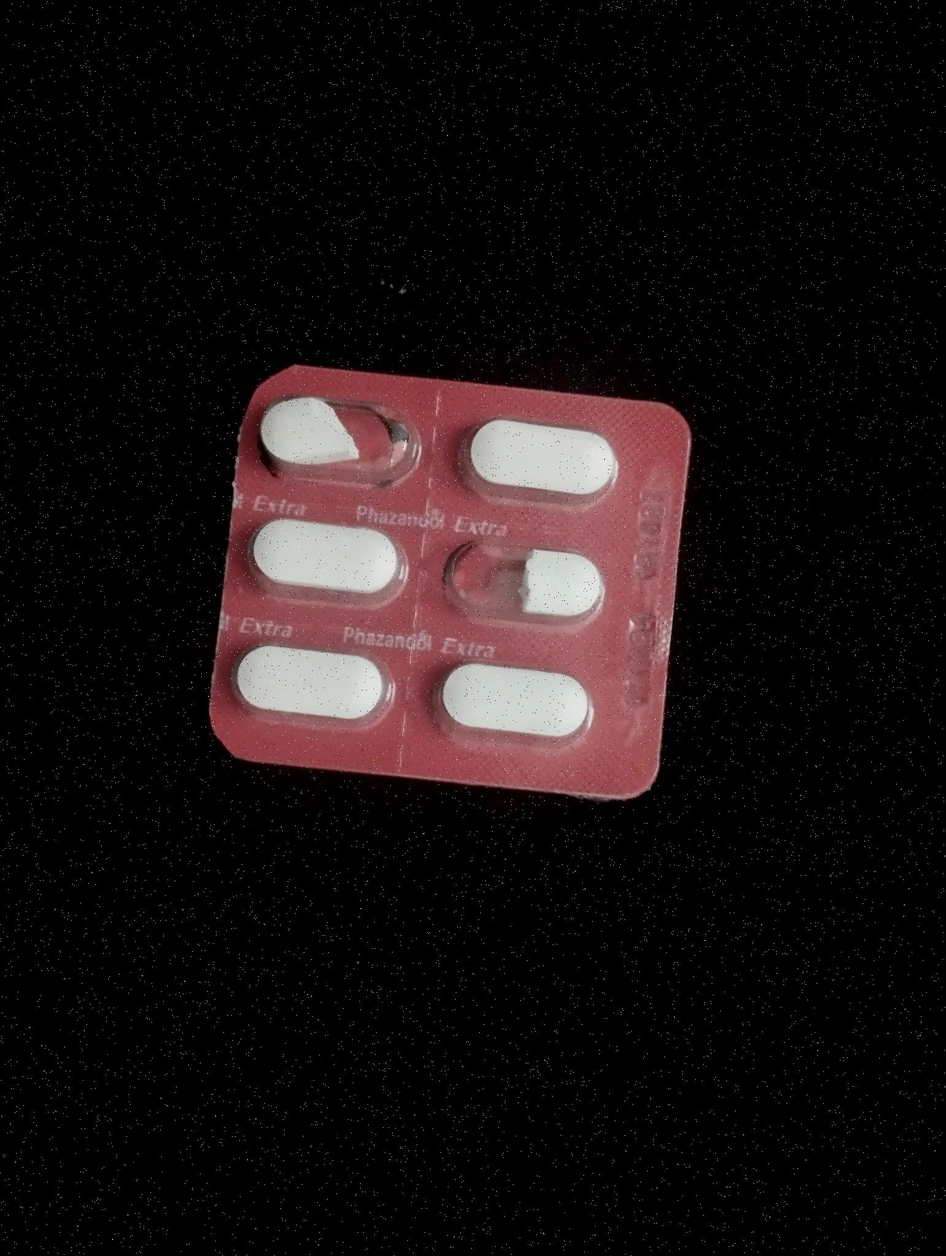Full: (420, 647, 601, 758), (456, 404, 629, 519), (223, 632, 400, 744), (239, 508, 417, 618)
Partial: (243, 383, 426, 504), (445, 524, 613, 646)
